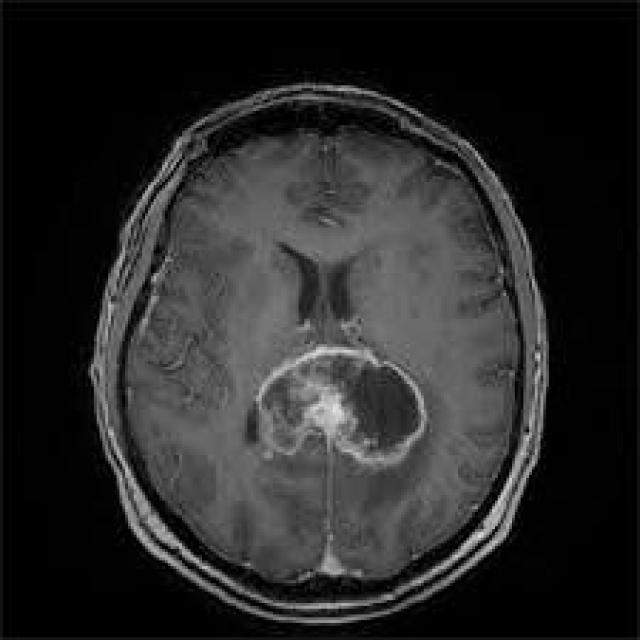Tumor-Cell: (235, 329, 444, 483)
